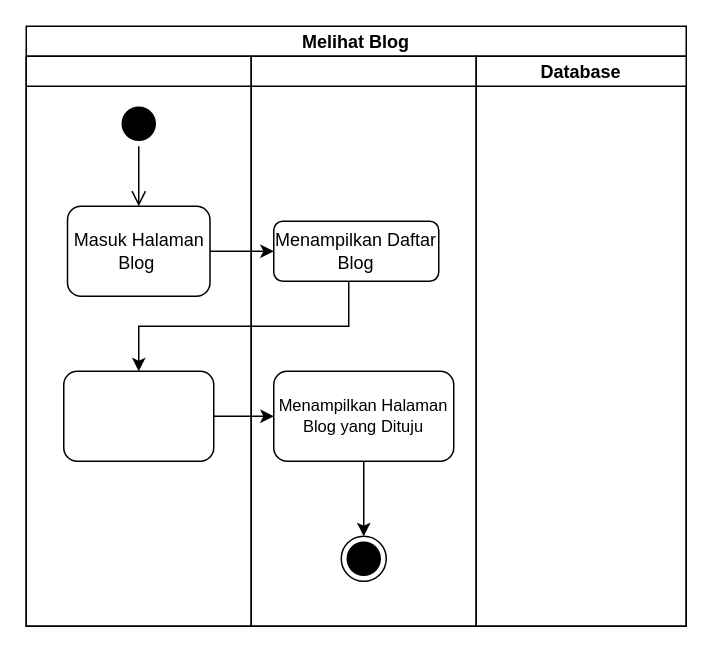
Image size: 713x653. Some labels were removed from this diagram. The shapes that lost their labels are listed below. From the top down, each one's box as (x1, y1, x2, y2) in pixels, then its label:
(25, 55, 251, 626): User
(250, 55, 476, 626): Sistem
(62, 370, 214, 461): Melihat Detail
